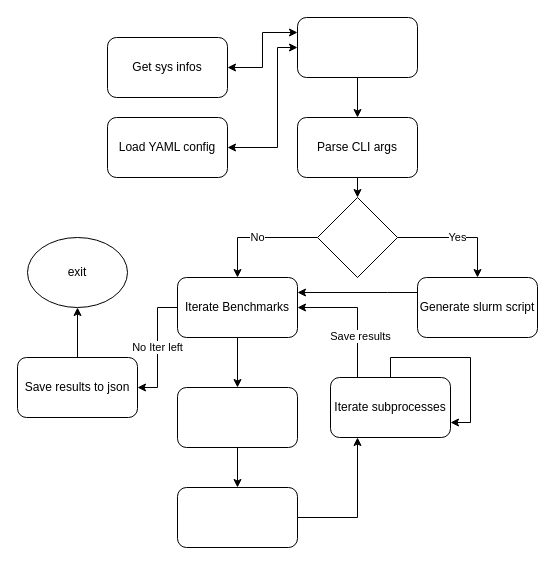
Some shapes in this 555 by 565 pixel diagram are drawn without their labels. The shapes that lost their labels are listed below. From the top down, each one's centre as x and y in pixels, then its label:
the point at 357,47: Main entry
the point at 357,237: args=slurm
the point at 237,417: Compile binary or load cached binary
the point at 237,517: Build exec command
